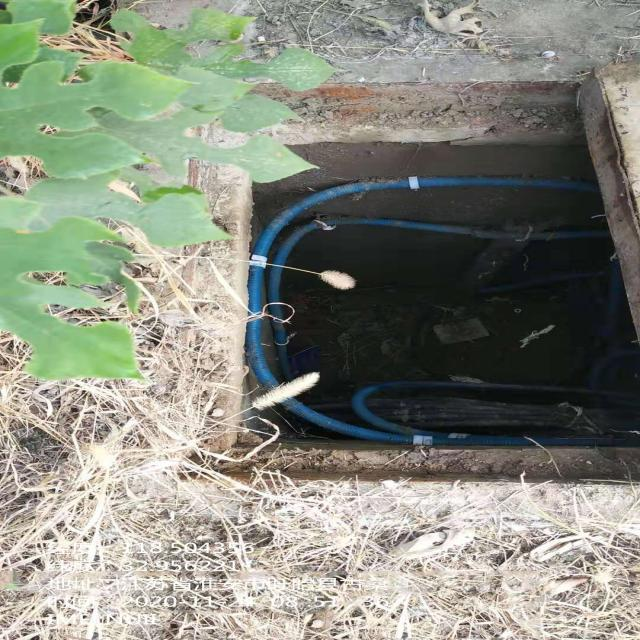Faulty: (195, 71, 640, 482)
